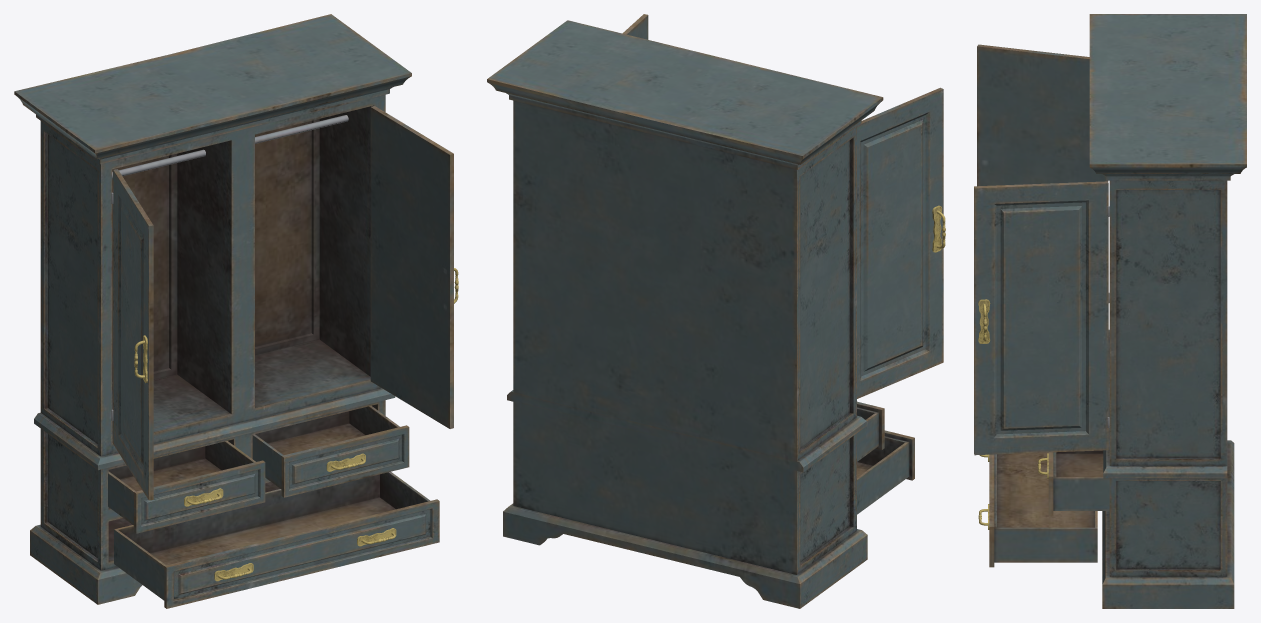
The picture shows the model from 3 angles, left to right: view 1: azimuth 30°, elevation 25°; view 2: azimuth 150°, elevation 25°; view 3: azimuth 270°, elevation 25°; orthographic projection. The views are drawn at different scales.
Visible parts, largest first — view 1: Base_low; view 2: Base_low; view 3: Base_low.
Part boxes in pixels (box(x1,y1,x2,y2)): Base_low: box(14, 14, 458, 608); Base_low: box(487, 14, 945, 608); Base_low: box(974, 14, 1246, 608).
Size of the model in its own units: 4530 by 6083 by 3352.
1 material, 1 textured.
